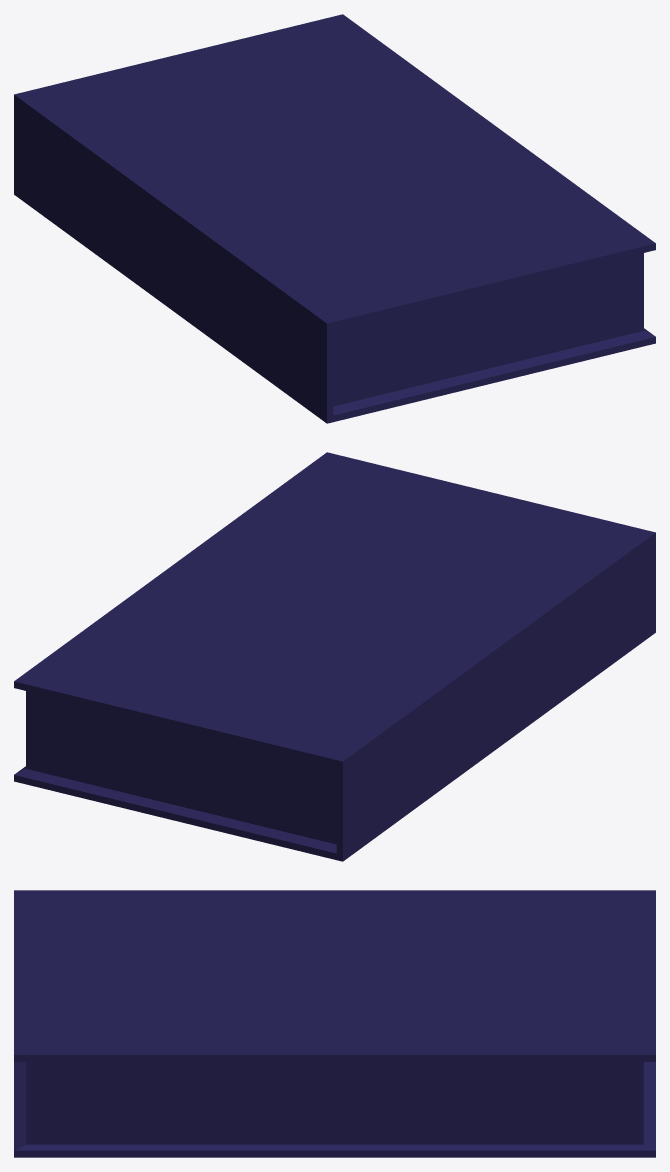
The model's file is Book1_fbx.fbx.
The picture shows the model from 3 angles, top to bottom: view 1: azimuth 30°, elevation 25°; view 2: azimuth 150°, elevation 25°; view 3: azimuth 270°, elevation 25°; orthographic projection. The views are drawn at different scales.
Parts seen in each view (by area): view 1: book1; view 2: book1; view 3: book1.
Part boxes in pixels (x1,y1,x2,y2): book1: (14,14,655,423); book1: (14,452,655,861); book1: (14,890,655,1157).
Bounding box in the file's own units: 192 × 55.83 × 316.
